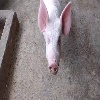heo: (37, 1, 72, 75)
